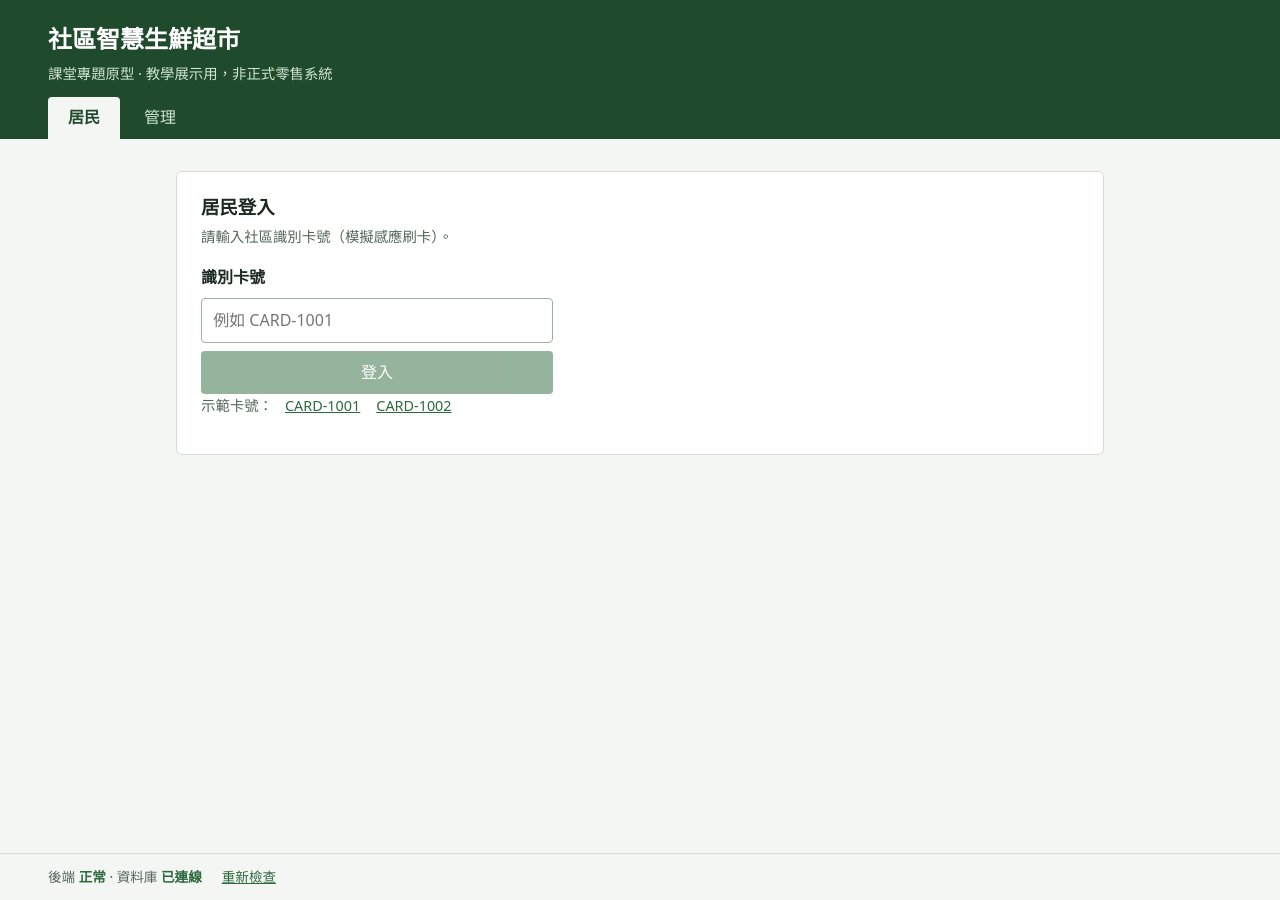
Test: shows an empty state when there are no orders or events yet
The image size is (1280, 900).
Click the button "管理": (160, 118) [124, 97, 196, 139]
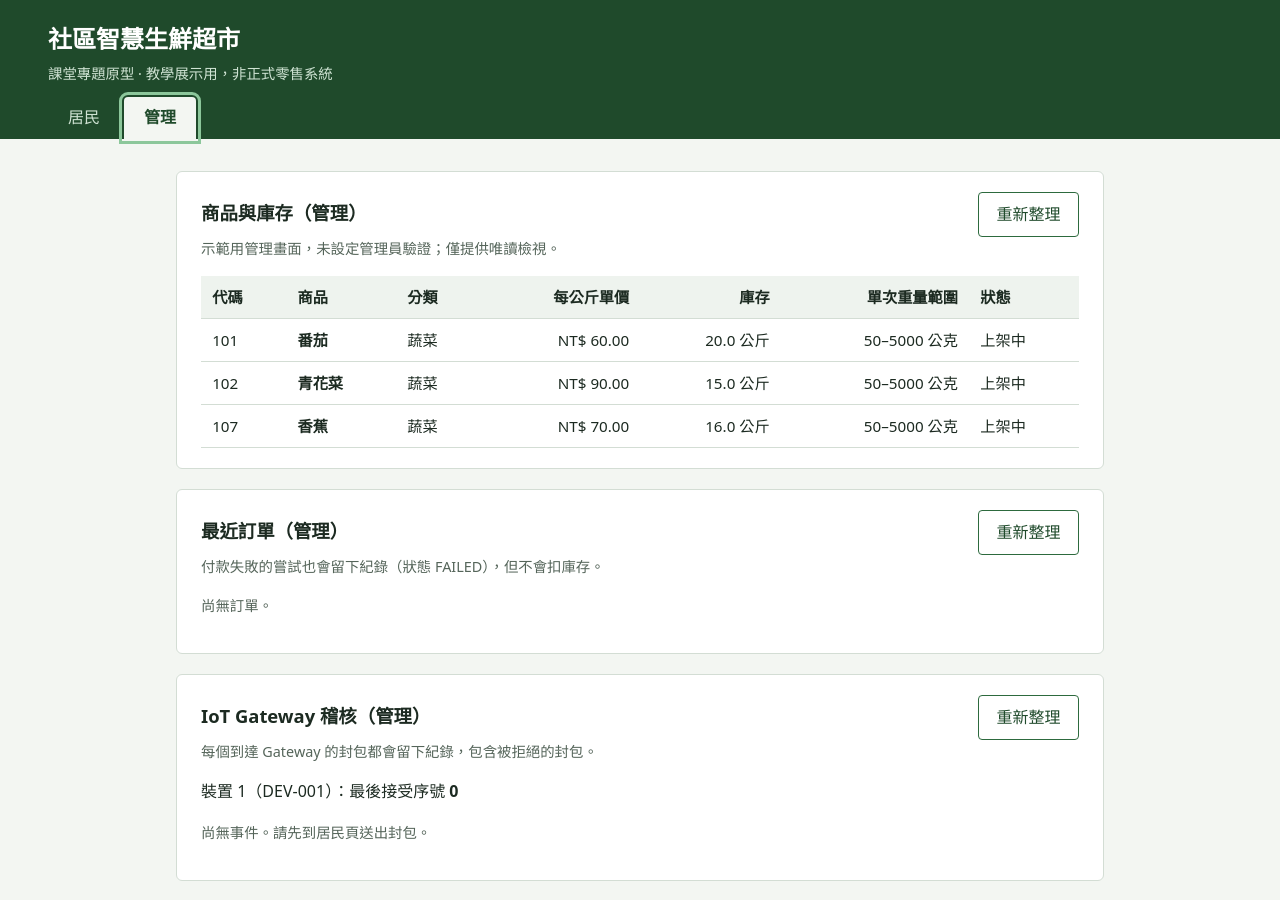
Expected: the text "尚無訂單。" is shown, [201, 596, 273, 615]
Expected: the text "尚無事件。請先到居民頁送出封包。" is shown, [201, 823, 431, 842]
